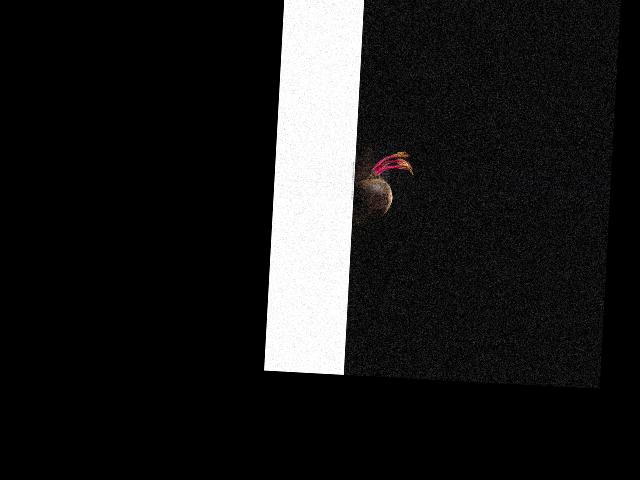beet: (351, 149, 414, 231)
